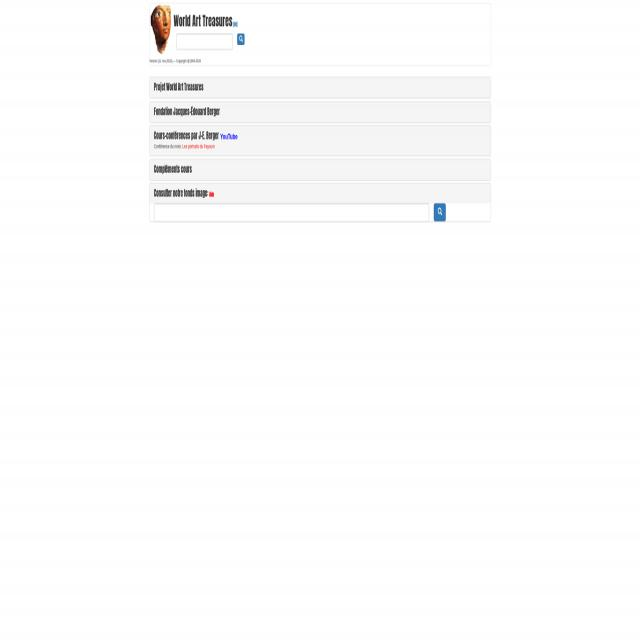button: (150, 4, 172, 56), (434, 204, 446, 222), (238, 33, 245, 45)
field: (154, 204, 429, 222), (176, 34, 233, 50)
